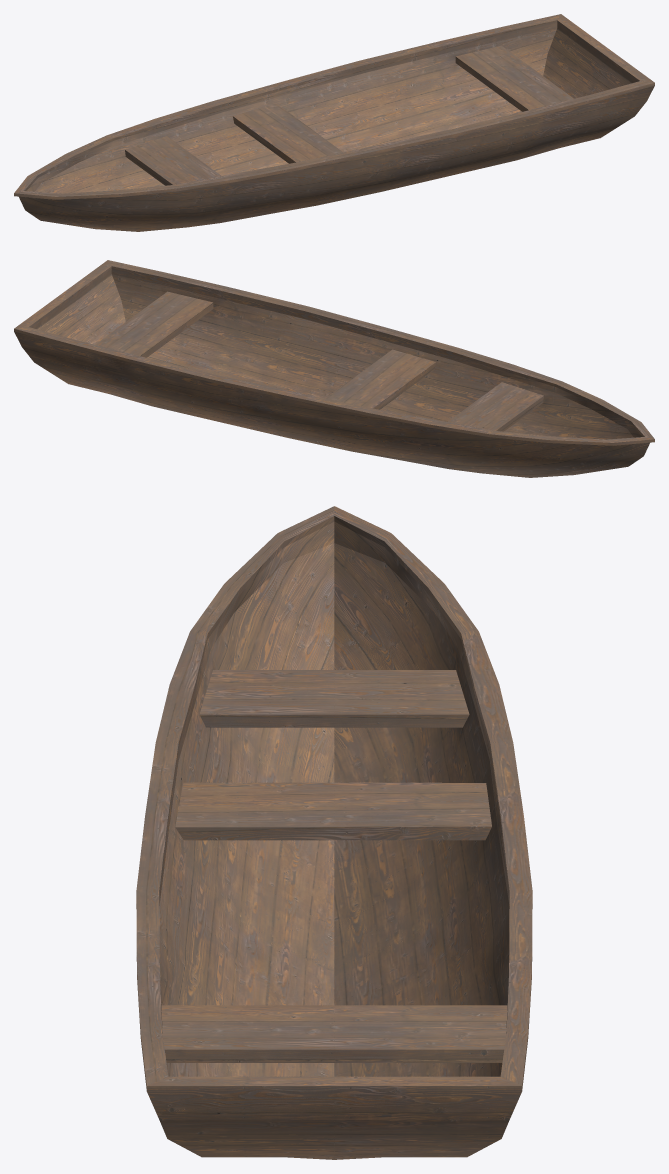
File: lifeboat_01.FBX
3 views of the same model, one above another, from view 1: azimuth 30°, elevation 25°; view 2: azimuth 150°, elevation 25°; view 3: azimuth 270°, elevation 25° (orthographic). The views are drawn at different scales.
Visible parts, largest first — view 1: lifeboat_01; view 2: lifeboat_01; view 3: lifeboat_01.
Part boxes in pixels (left/top/right/bottom): lifeboat_01: left=14, top=14, right=654, bottom=231; lifeboat_01: left=14, top=260, right=654, bottom=477; lifeboat_01: left=136, top=506, right=532, bottom=1159.
Bounding box in the file's own units: 405 × 51.79 × 117.
